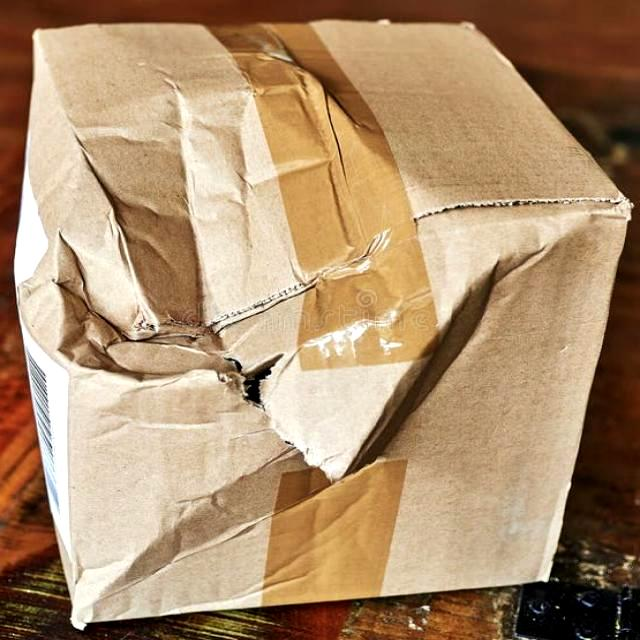Defect: (17, 14, 608, 625)
cut: (15, 21, 631, 628)
deform: (15, 21, 631, 628)
